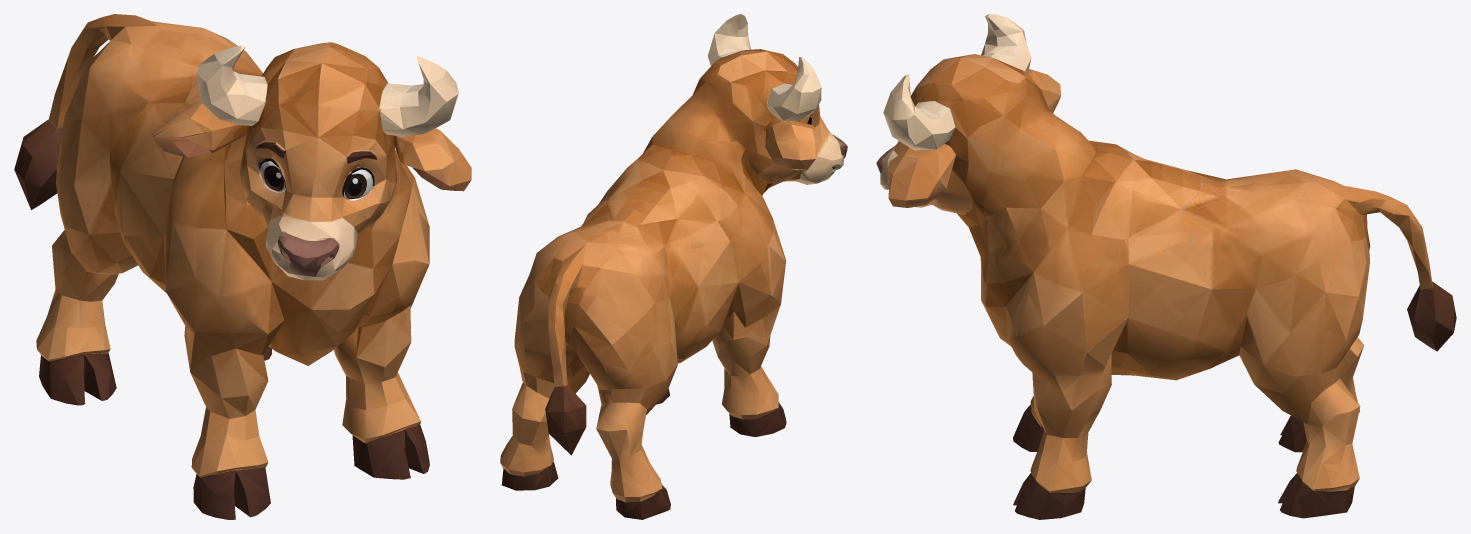
File: bull.glb
3 renders of one model, left to right at view 1: azimuth 30°, elevation 25°; view 2: azimuth 150°, elevation 25°; view 3: azimuth 270°, elevation 25°, orthographic. The views are drawn at different scales.
Bounding box in the file's own units: 0.9115 × 1.5 × 1.9.
Materials: 1 (1 with a texture image).
